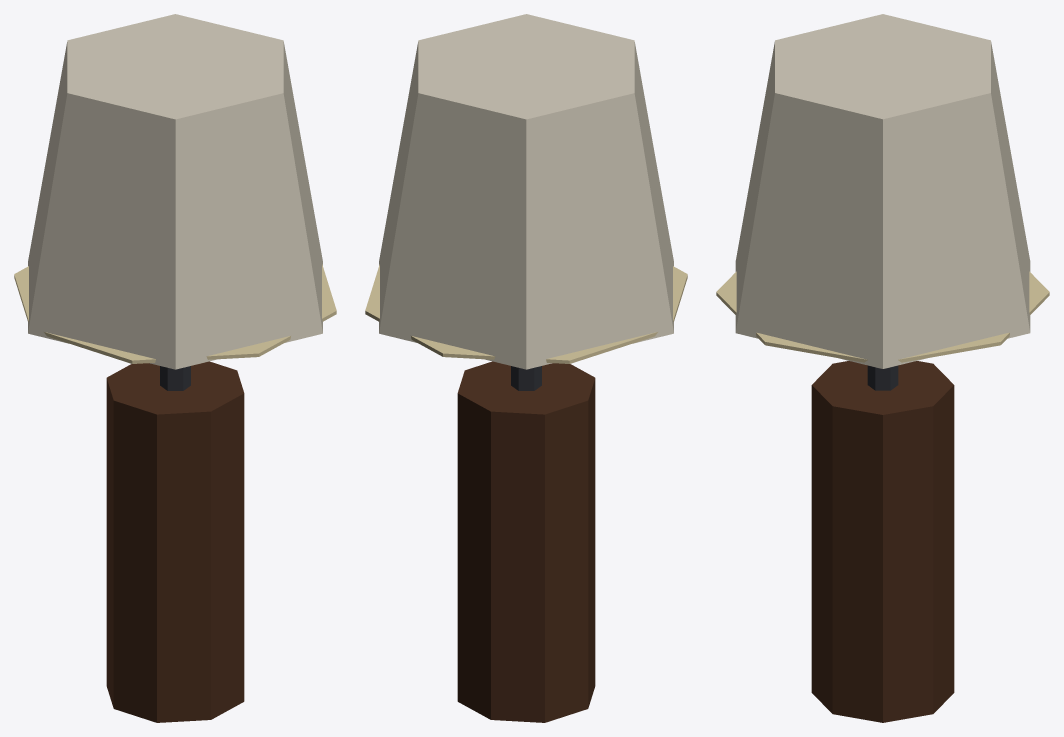
The model's file is table-lamp-01.glb.
3 renders of one model, left to right at view 1: azimuth 30°, elevation 25°; view 2: azimuth 150°, elevation 25°; view 3: azimuth 270°, elevation 25°, orthographic.
Parts seen in each view (by area): view 1: table_lamp_01; view 2: table_lamp_01; view 3: table_lamp_01.
Part boxes in pixels (<box>): table_lamp_01: <box>14,14,336,722</box>; table_lamp_01: <box>365,14,687,722</box>; table_lamp_01: <box>716,14,1049,722</box>.
Bounding box in the file's own units: 0.2635 × 0.5353 × 0.2582.
